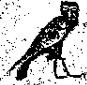Owl: (5, 2, 84, 83)
